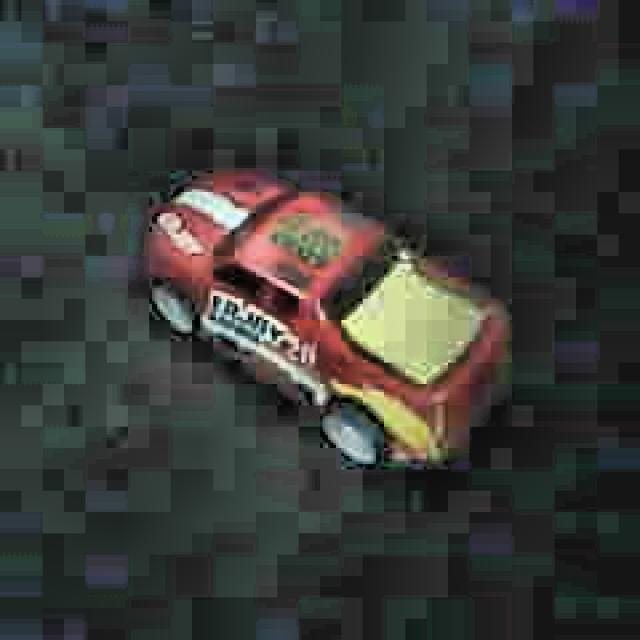car: (141, 156, 516, 478)
